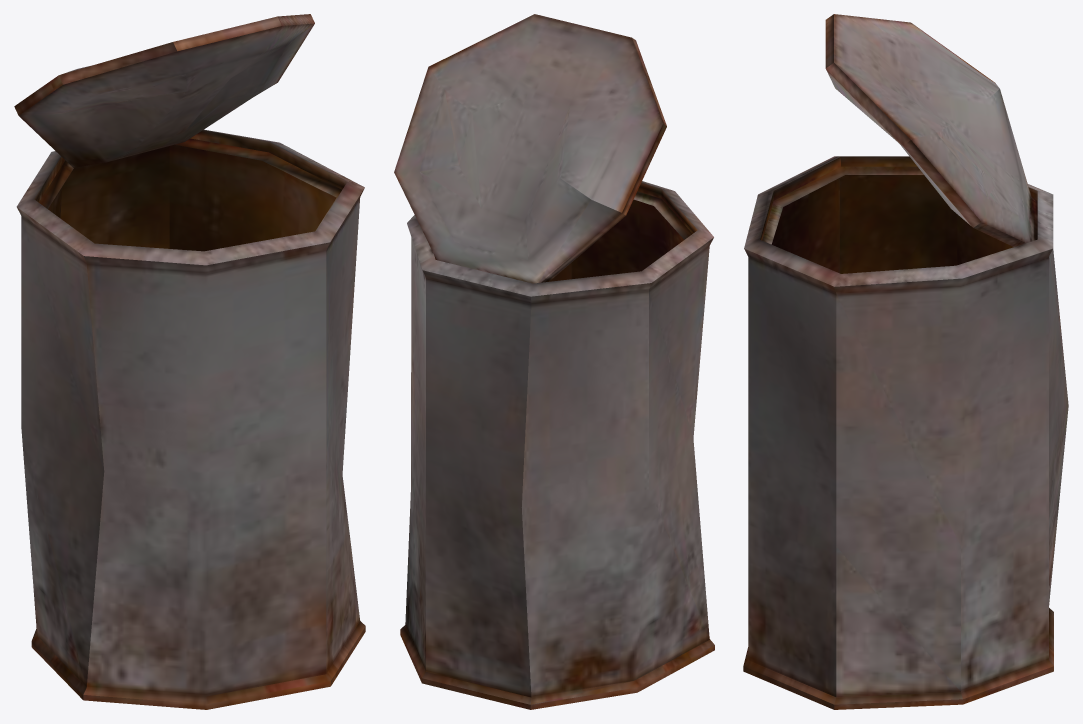
Rendered from crumpled_can_03.glb.
3 renders of one model, left to right at view 1: azimuth 30°, elevation 25°; view 2: azimuth 150°, elevation 25°; view 3: azimuth 270°, elevation 25°, orthographic. The views are drawn at different scales.
Visible parts, largest first — view 1: crumpled_can_03; view 2: crumpled_can_03; view 3: crumpled_can_03.
Boxes of the visible parts, x1,y1,x2,y2 form: crumpled_can_03: (14,14,365,709); crumpled_can_03: (394,14,714,709); crumpled_can_03: (743,14,1068,709).
Size of what is drawn, in the model's own units: 0.1029 by 0.2218 by 0.1078.
Materials: 1 (1 with a texture image).
